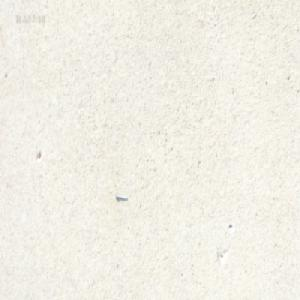Nail: (113, 192, 128, 202)
